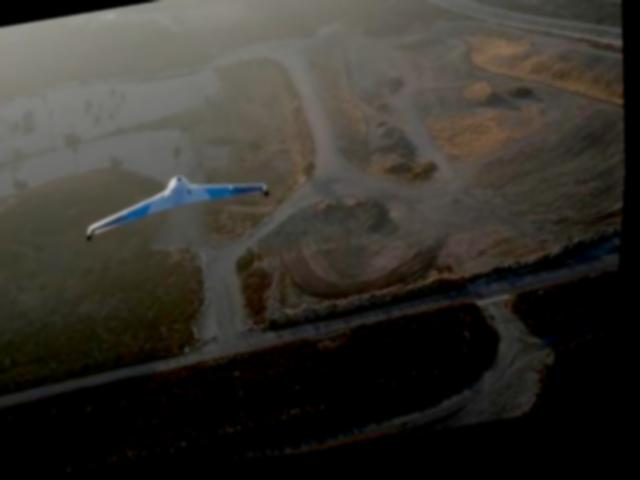iha: (87, 164, 275, 238)
